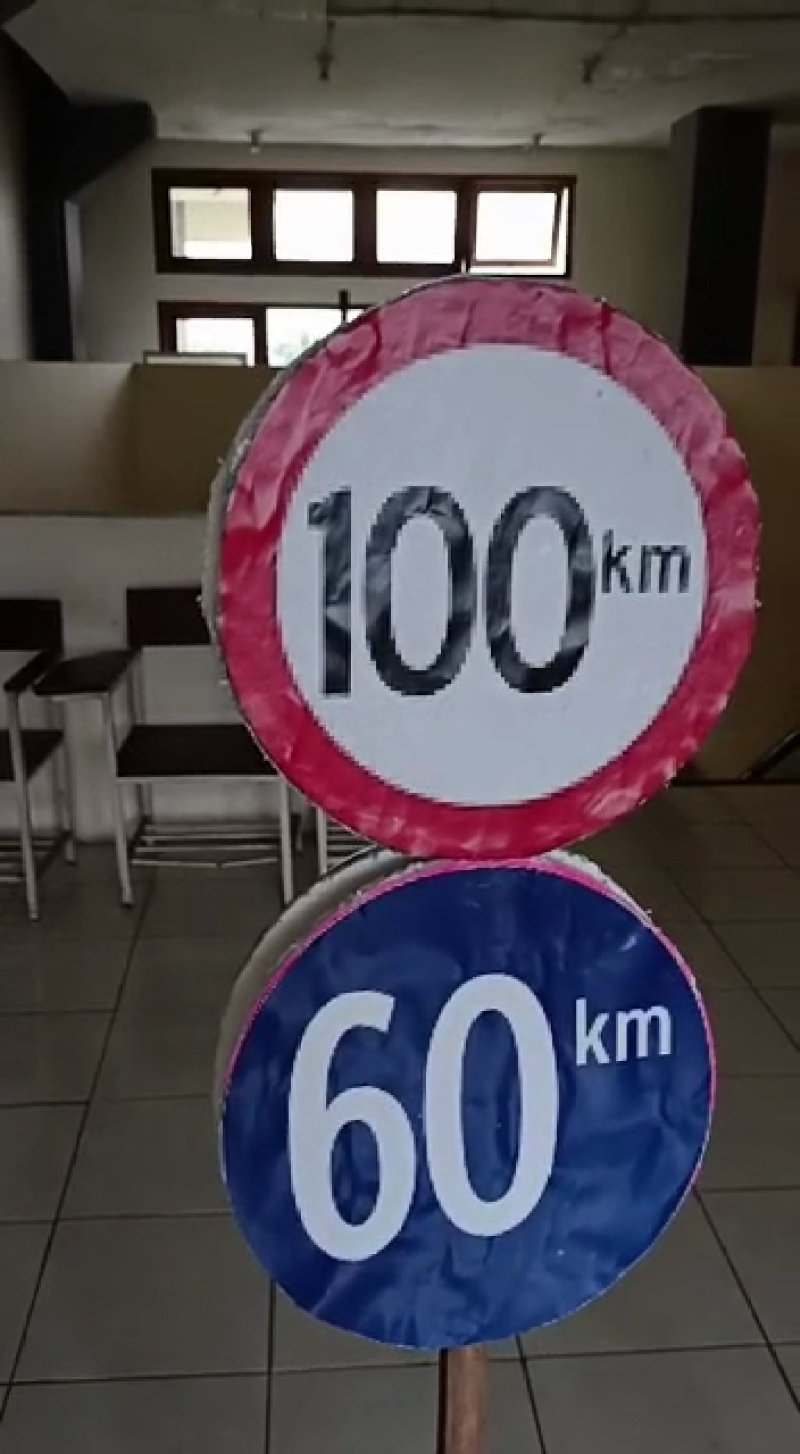batas maksimal 100kmperjam minimal 60kmperjam: (207, 258, 763, 1367)
